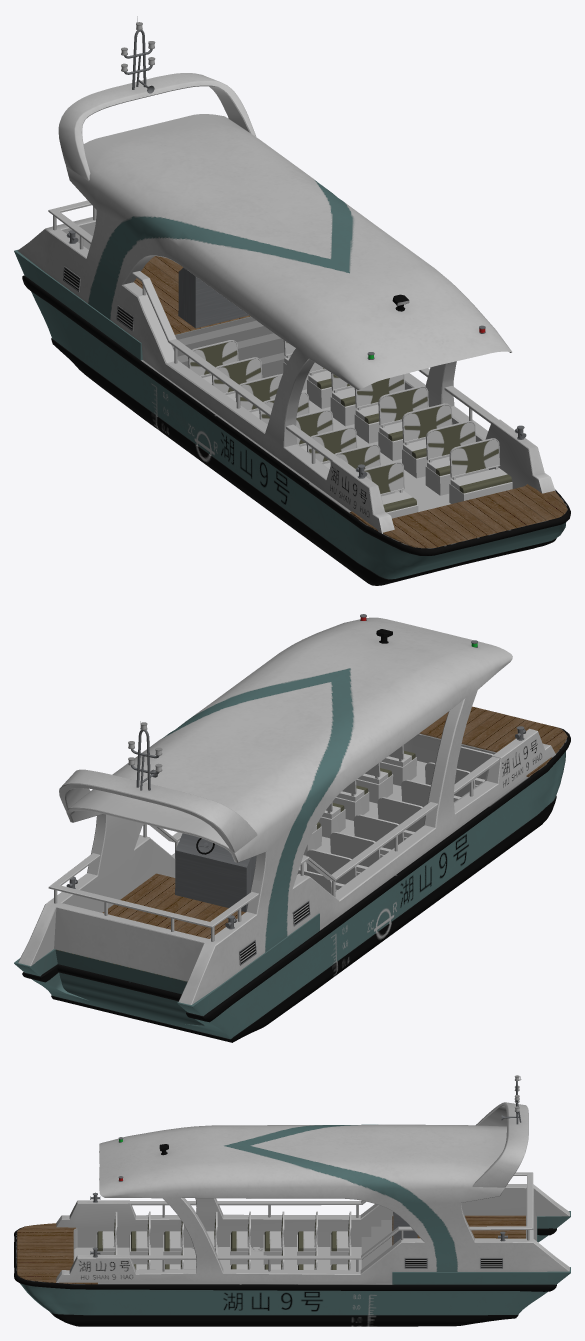
The model's file is PleasureBoat.glb.
3 views of the same model, one above another, from view 1: azimuth 30°, elevation 25°; view 2: azimuth 150°, elevation 25°; view 3: azimuth 270°, elevation 25° (orthographic). The views are drawn at different scales.
Visible parts, largest first — view 1: 对象006, Box007, 对象004, Box005, Box006, Box003, Box010; view 2: 对象006, Box007, 对象004, Box005, Box006, Box010, Cylinder004; view 3: 对象006, Box007, 对象004, Box006, Box005, Box003, Box010.
Part boxes in pixels (box(x1,y1,x2,y2)): 对象006: box(14, 114, 570, 585); Box007: box(188, 340, 512, 518); 对象004: box(134, 256, 567, 548); Box005: box(58, 73, 256, 181); Box006: box(48, 200, 498, 463); Box003: box(172, 316, 291, 378); Box010: box(178, 267, 248, 328); 对象006: box(14, 617, 570, 1042); Box007: box(297, 745, 493, 894); 对象004: box(57, 706, 567, 981); Box005: box(59, 769, 257, 852); Box006: box(48, 756, 499, 941); Box010: box(175, 833, 256, 912); Cylinder004: box(131, 730, 159, 790); 对象006: box(14, 1124, 570, 1326); Box007: box(96, 1211, 351, 1270); 对象004: box(17, 1215, 525, 1284); Box006: box(130, 1172, 533, 1271); Box005: box(472, 1102, 528, 1187); Box003: box(361, 1216, 392, 1268); Box010: box(393, 1212, 417, 1244).
Size of the model in its own units: 3.95 by 6.69 by 14.69.
Materials: 1 (1 with a texture image).
